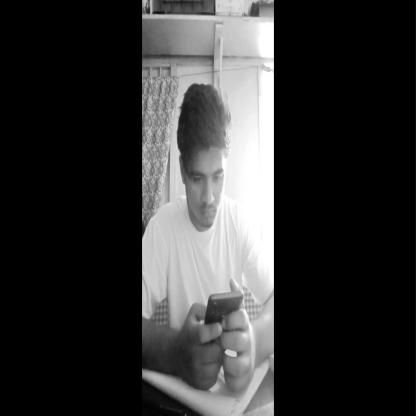Normal: (177, 108, 230, 232)
